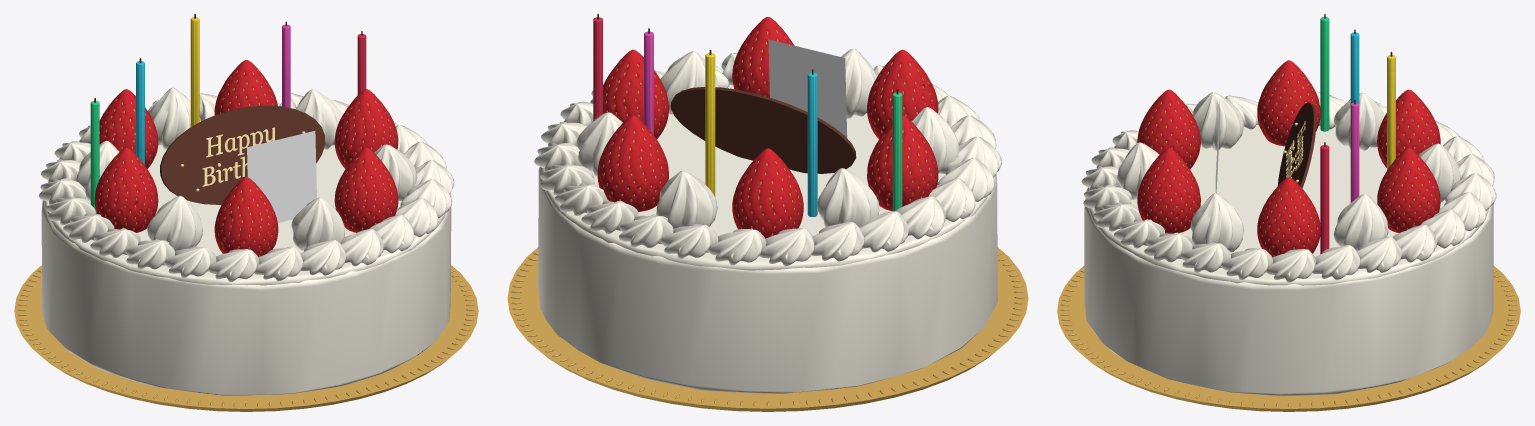
File: preview.glb
The picture shows the model from 3 angles, left to right: view 1: azimuth 30°, elevation 25°; view 2: azimuth 150°, elevation 25°; view 3: azimuth 270°, elevation 25°; orthographic projection. The views are drawn at different scales.
Parts seen in each view (by area): view 1: Fresh cream top, Strawberry, Plate, Chocolate, Texture, Chocolate pearl, Candle 3, Candle 1, Candle 2, Candle 4, Candle 5; view 2: Fresh cream top, Strawberry, Plate, Chocolate, Texture, Candle 2, Candle 3, Candle 1, Candle 5, Candle 4; view 3: Fresh cream top, Strawberry, Plate, Chocolate, Candle 1, Candle 5, Candle 3, Candle 4, Candle 2, Chocolate pearl.
Boxes of the visible parts, x1,y1,x2,y2 form: Fresh cream top: [38, 87, 454, 395]; Strawberry: [94, 60, 398, 257]; Plate: [14, 265, 478, 411]; Chocolate: [160, 105, 324, 204]; Texture: [247, 131, 316, 222]; Chocolate pearl: [180, 127, 305, 191]; Candle 3: [190, 17, 199, 126]; Candle 1: [90, 101, 99, 214]; Candle 2: [136, 61, 144, 165]; Candle 4: [282, 24, 290, 107]; Candle 5: [357, 34, 366, 94]; Fresh cream top: [534, 48, 1001, 393]; Strawberry: [597, 17, 938, 238]; Plate: [507, 247, 1028, 411]; Chocolate: [671, 87, 856, 173]; Texture: [768, 39, 847, 137]; Candle 2: [807, 72, 817, 216]; Candle 3: [705, 53, 715, 196]; Candle 1: [892, 92, 902, 211]; Candle 5: [593, 17, 602, 120]; Candle 4: [644, 31, 653, 134]; Fresh cream top: [1081, 92, 1496, 396]; Strawberry: [1137, 60, 1440, 257]; Plate: [1057, 266, 1520, 411]; Chocolate: [1277, 102, 1316, 188]; Candle 1: [1320, 17, 1329, 131]; Candle 5: [1320, 145, 1329, 254]; Candle 3: [1387, 55, 1395, 170]; Candle 4: [1350, 102, 1359, 202]; Candle 2: [1350, 32, 1359, 103]; Chocolate pearl: [1283, 121, 1305, 182].
Bounding box in the file's own units: 2.32 × 1.46 × 2.32.
